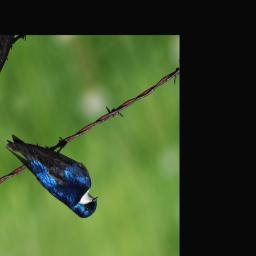Swallow: (3, 101, 103, 248)
